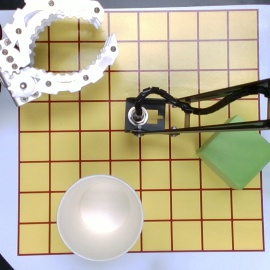cup: (56, 173, 145, 261)
